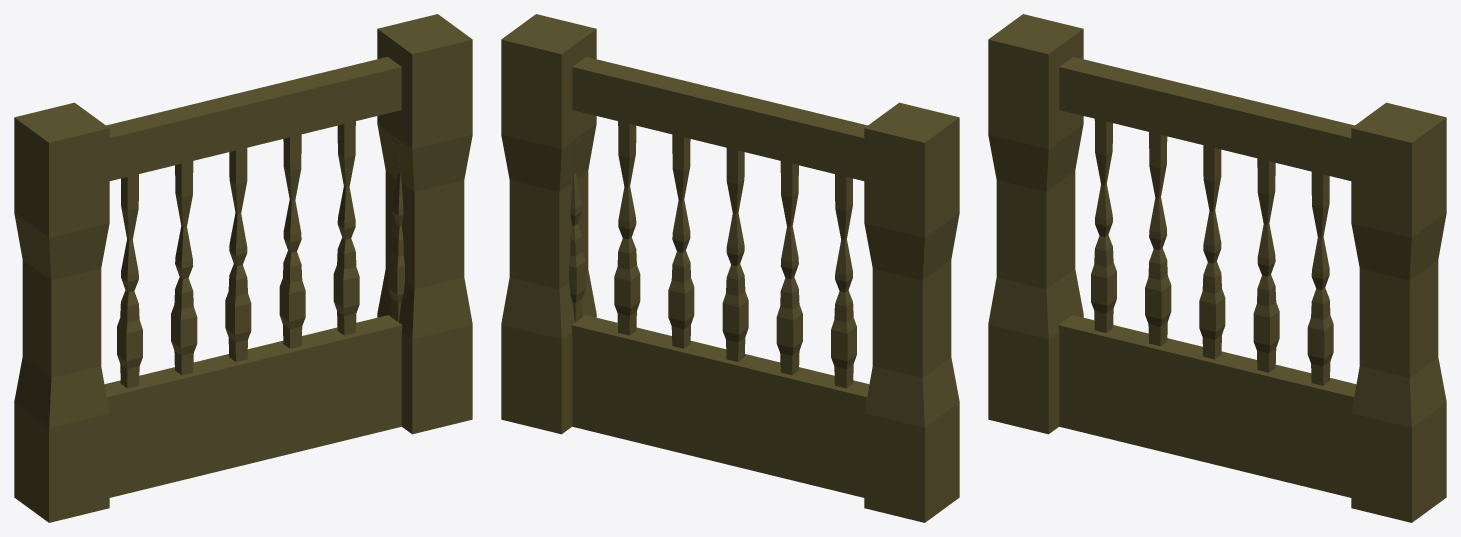
Rendered from Pilar Muro.fbx.
3 renders of one model, left to right at view 1: azimuth 30°, elevation 25°; view 2: azimuth 150°, elevation 25°; view 3: azimuth 330°, elevation 25°, orthographic.
Parts seen in each view (by area): view 1: Pilares Muro.001; view 2: Pilares Muro.001; view 3: Pilares Muro.001.
Boxes of the visible parts, <box> form: Pilares Muro.001: <box>14,14,472,522</box>; Pilares Muro.001: <box>501,14,959,522</box>; Pilares Muro.001: <box>988,14,1446,522</box>.
Size of the model in its own units: 283 by 243 by 40.45.
